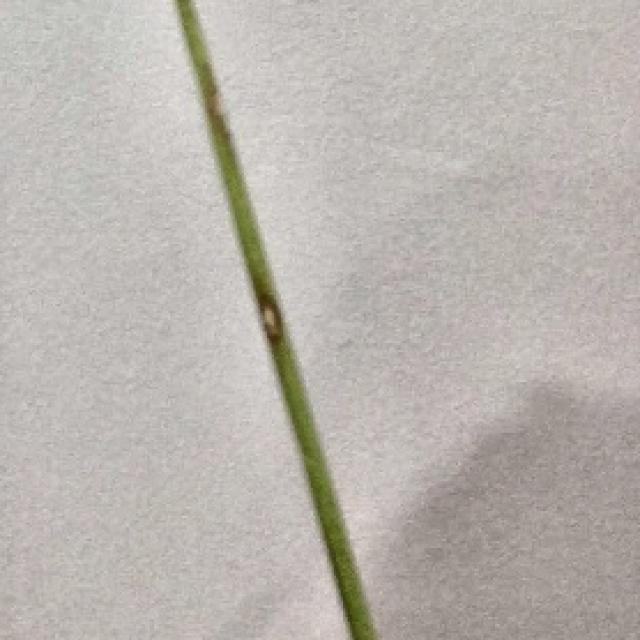Leaf_Blast: (184, 58, 240, 138), (242, 290, 298, 348)
